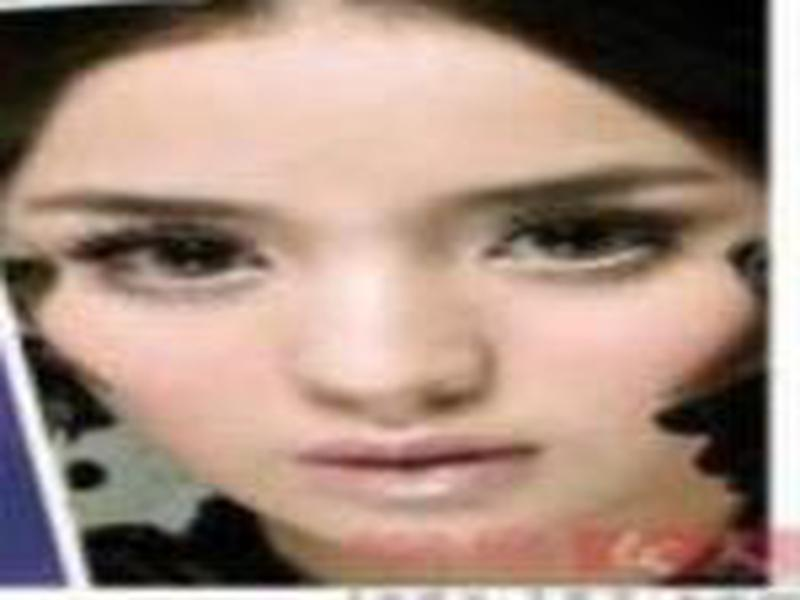without_mask: (12, 75, 766, 558)
